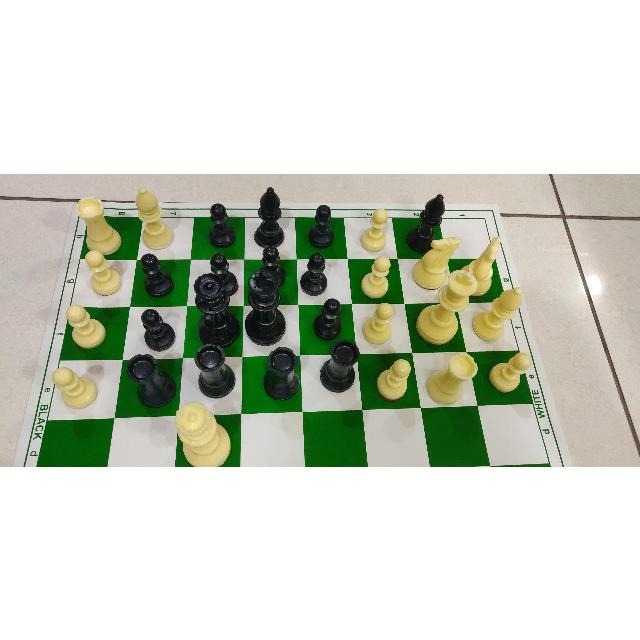black-bishop: (403, 191, 449, 253), (251, 183, 289, 249)
black-king: (243, 266, 290, 347)
black-pawn: (136, 248, 180, 297), (140, 303, 179, 356), (204, 199, 238, 253), (302, 202, 337, 254), (299, 249, 335, 299), (256, 244, 291, 294), (204, 250, 240, 298), (308, 294, 343, 343)
black-queen: (189, 272, 245, 352)
black-rook: (122, 350, 182, 412), (313, 335, 363, 395), (188, 341, 237, 401), (259, 342, 303, 402)
white-bishop: (469, 281, 529, 343), (130, 184, 174, 250)
white-king: (414, 263, 480, 347)
white-knight: (408, 234, 465, 291), (458, 233, 506, 295)
white-pawn: (50, 358, 100, 413), (82, 244, 125, 299), (63, 300, 110, 349), (488, 348, 534, 396), (361, 298, 399, 347), (355, 204, 392, 254), (357, 253, 394, 301), (373, 356, 411, 402)
white-queen: (172, 400, 234, 465)
white-rook: (424, 347, 480, 404), (75, 192, 125, 255)
